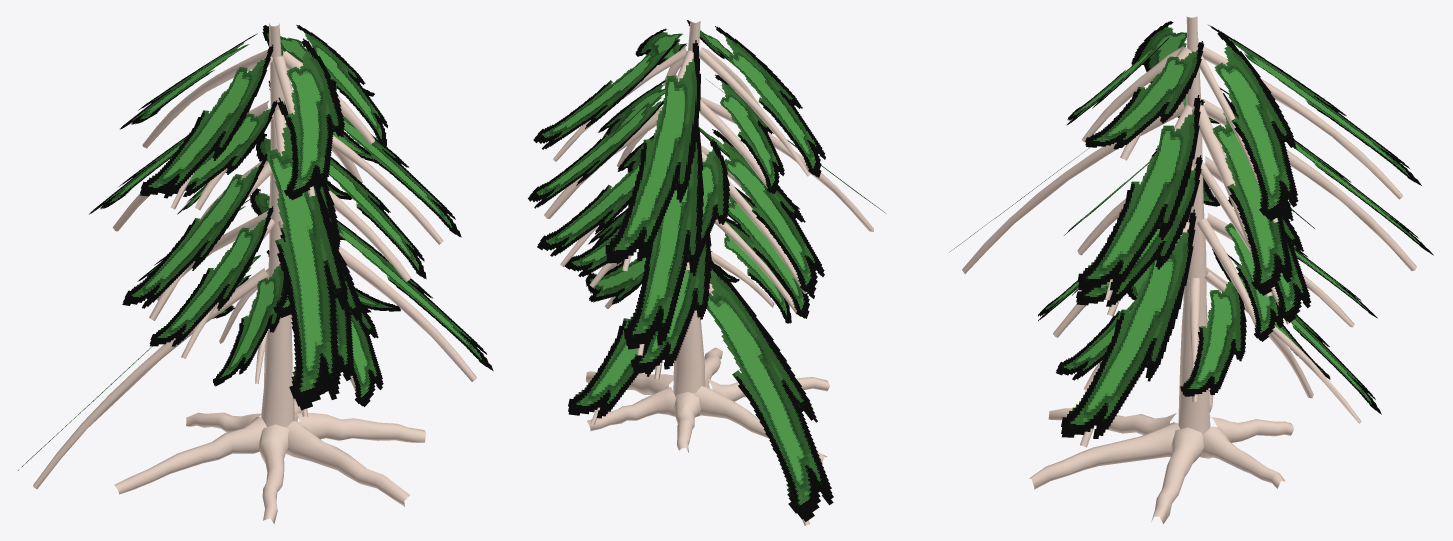
The model's file is crowned_pine_02.glb.
3 renders of one model, left to right at view 1: azimuth 30°, elevation 25°; view 2: azimuth 150°, elevation 25°; view 3: azimuth 270°, elevation 25°, orthographic. The views are drawn at different scales.
Visible parts, largest first — view 1: crowned_pine_02; view 2: crowned_pine_02; view 3: crowned_pine_02.
Boxes of the visible parts, bbox=[...] form: crowned_pine_02: bbox=[18, 23, 493, 523]; crowned_pine_02: bbox=[528, 20, 884, 525]; crowned_pine_02: bbox=[950, 16, 1433, 523].
Size of the model in its own units: 5.91 by 6.3 by 6.26.
2 materials, 1 textured.
